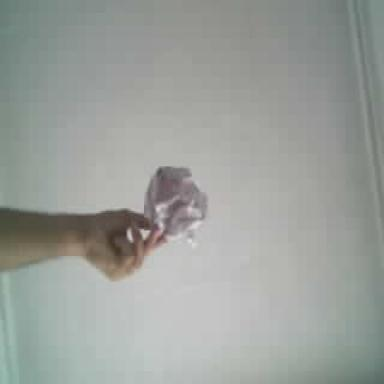paper: (144, 166, 206, 242)
